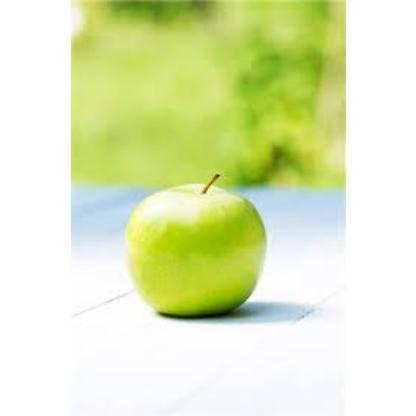apple: (124, 179, 270, 323)
